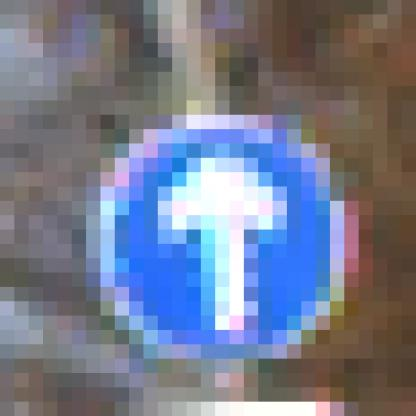AheadOnly: (73, 87, 331, 331)
